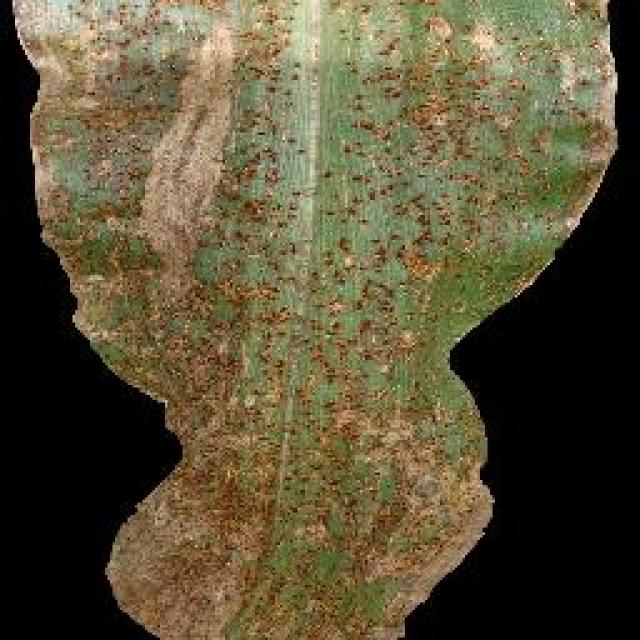Corn___Common_rust: (8, 0, 632, 640)
